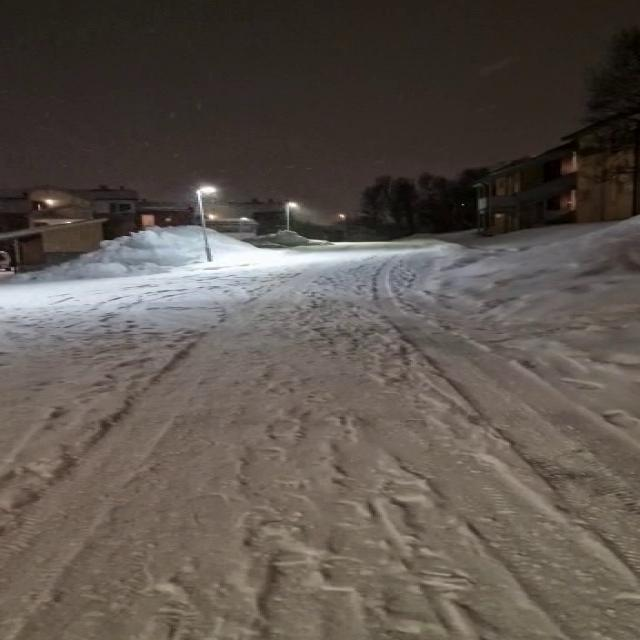path: (0, 240, 640, 640)
